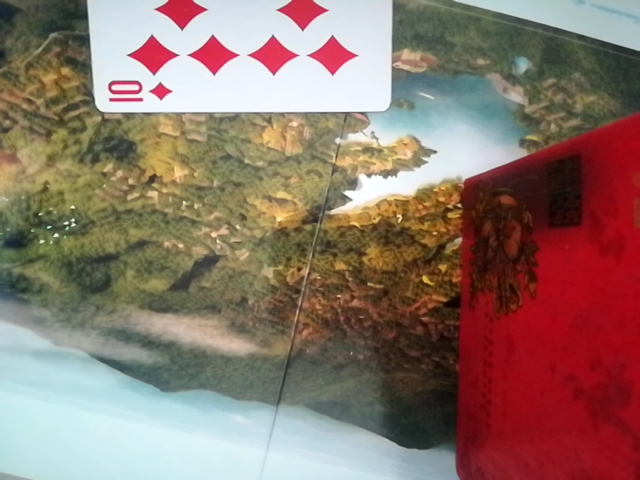fk 10: (73, 0, 402, 114)
